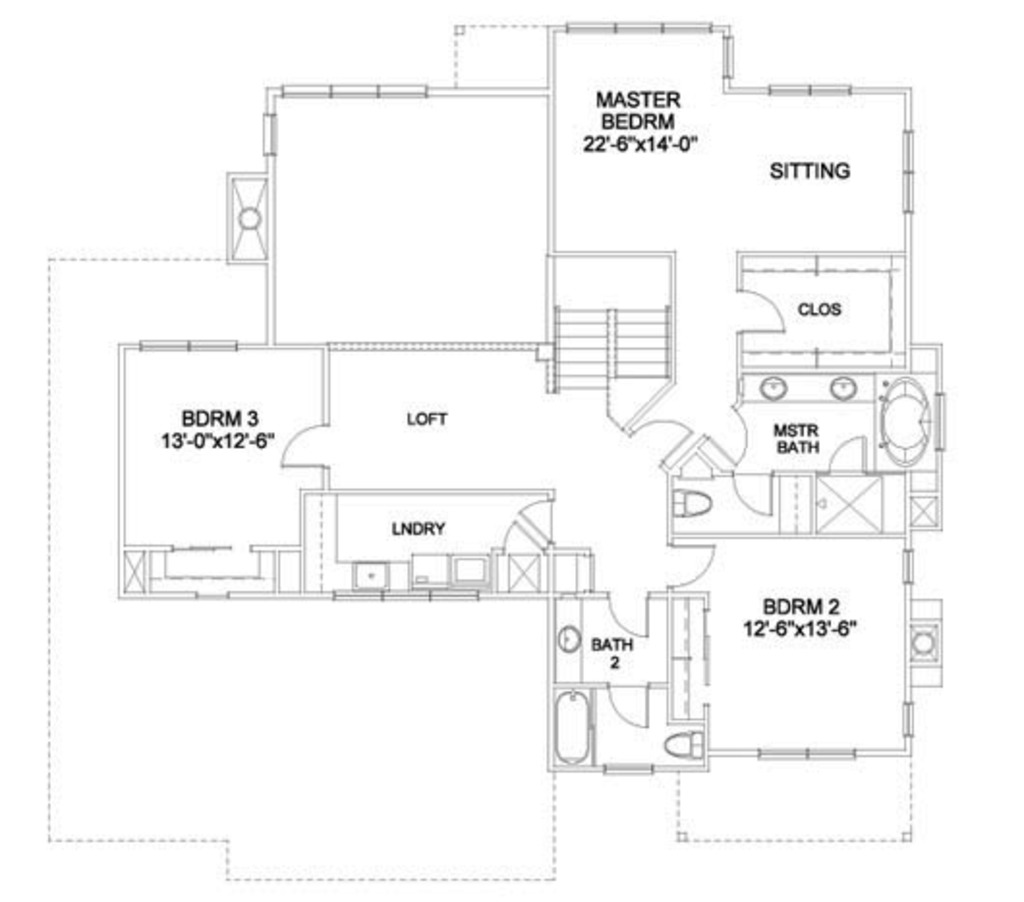door: (696, 388, 749, 467), (632, 407, 693, 468), (737, 285, 796, 345), (600, 587, 659, 644), (816, 429, 875, 485), (268, 421, 329, 474), (661, 543, 715, 597), (731, 459, 777, 519), (601, 684, 652, 731), (519, 493, 562, 545), (501, 517, 547, 556)
large_sink: (653, 721, 710, 765), (672, 474, 717, 524)
small_sink: (741, 369, 883, 406), (554, 604, 584, 684)
stairs: (549, 245, 683, 407)
tub: (555, 688, 597, 771)
window: (278, 80, 433, 100), (128, 328, 241, 355), (751, 740, 868, 764), (565, 16, 712, 35), (899, 119, 918, 216), (713, 29, 743, 82), (768, 80, 858, 96), (259, 111, 284, 159)
